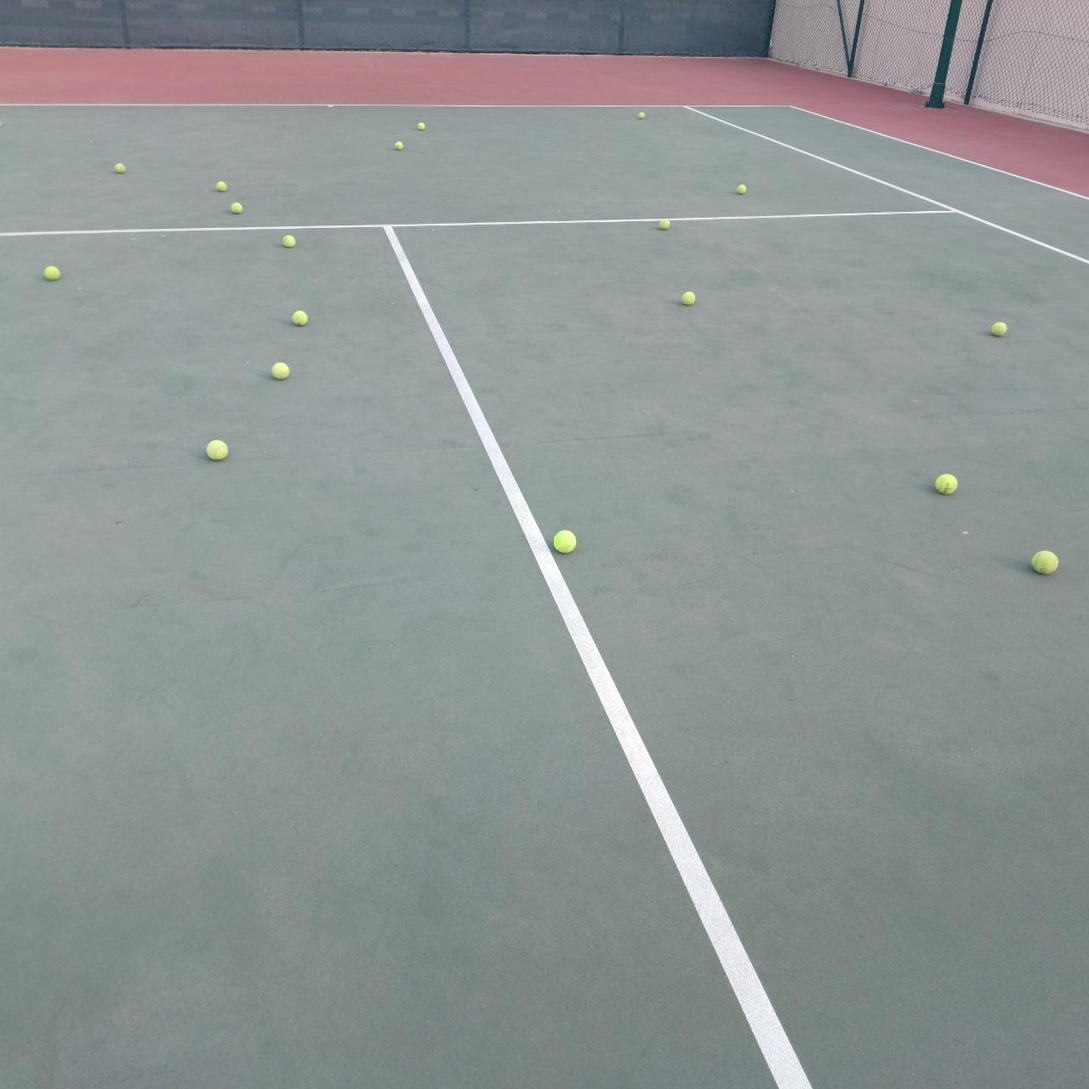tennis-ball: (1029, 547, 1058, 575), (551, 527, 577, 554), (933, 471, 958, 495), (206, 439, 228, 461), (271, 361, 290, 381), (290, 309, 309, 327), (43, 263, 60, 281), (989, 319, 1007, 336), (681, 290, 696, 307), (281, 233, 296, 248), (229, 201, 244, 215), (216, 180, 228, 192), (114, 163, 126, 174), (659, 219, 670, 231), (737, 184, 746, 194), (395, 141, 403, 150), (418, 123, 426, 131), (638, 112, 645, 120)
